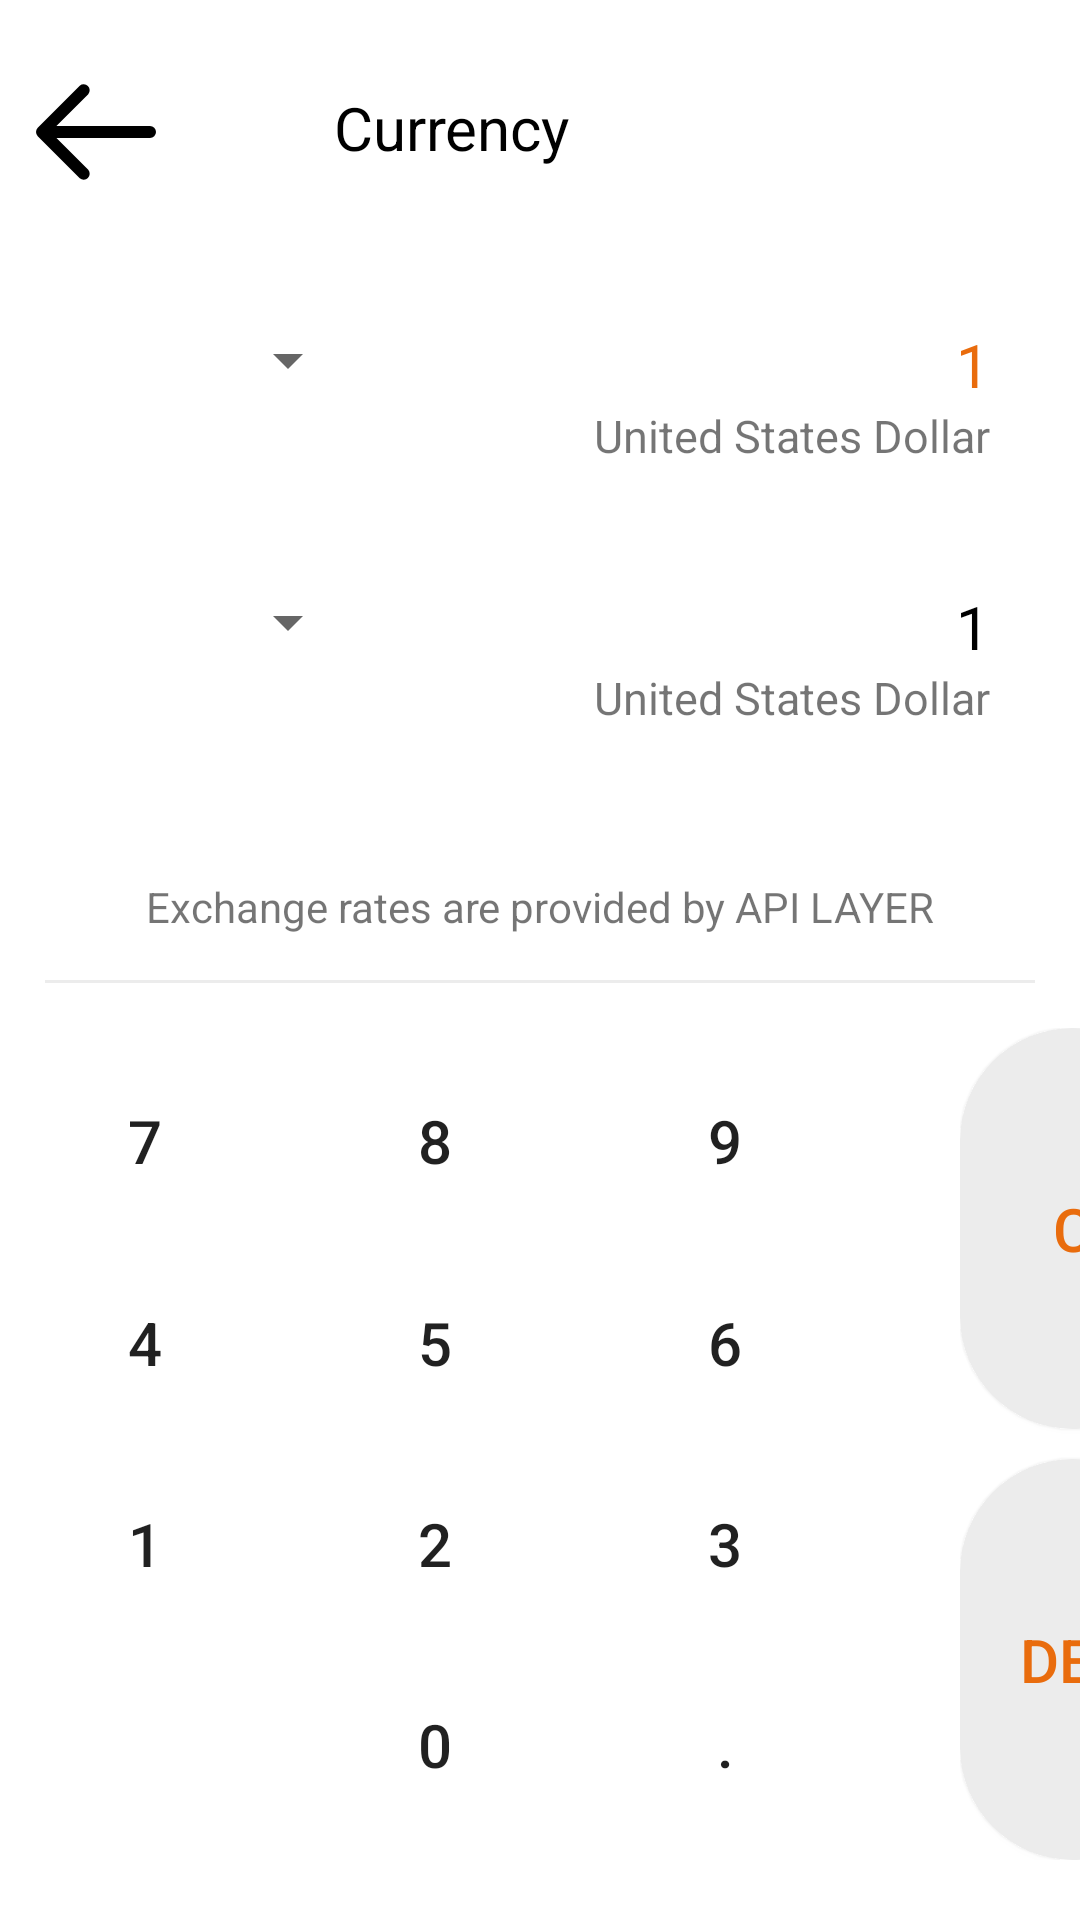

Named icons in this screenshot (1080*1920) and their bounding boxes, (x1, y1, x2, y2):
left arrow: (36, 84, 156, 180)
